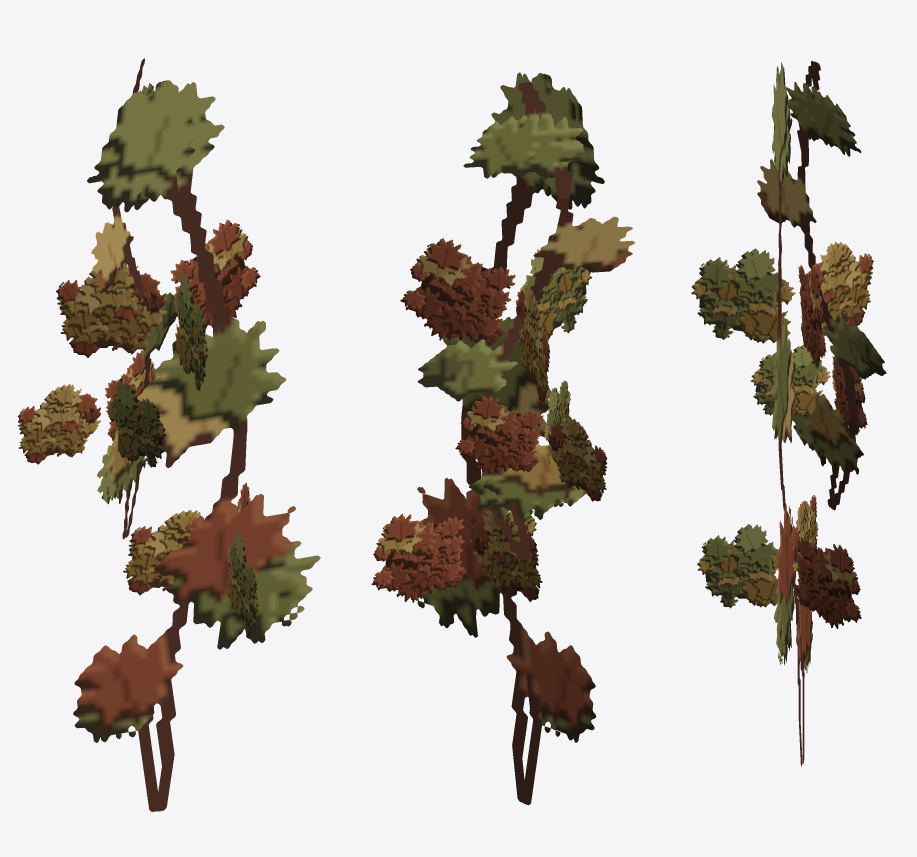
Rendered from SM_VG13_IvyShort.fbx.
3 renders of one model, left to right at view 1: azimuth 30°, elevation 25°; view 2: azimuth 150°, elevation 25°; view 3: azimuth 270°, elevation 25°, orthographic. The views are drawn at different scales.
Parts seen in each view (by area): view 1: VG13_Ivy; view 2: VG13_Ivy; view 3: VG13_Ivy.
Part boxes in pixels (left/top/right/bottom): VG13_Ivy: left=17, top=58, right=320, bottom=811; VG13_Ivy: left=371, top=72, right=634, bottom=805; VG13_Ivy: left=691, top=61, right=886, bottom=766.
Size of the model in its own units: 0.4492 by 1.2 by 0.3244.
